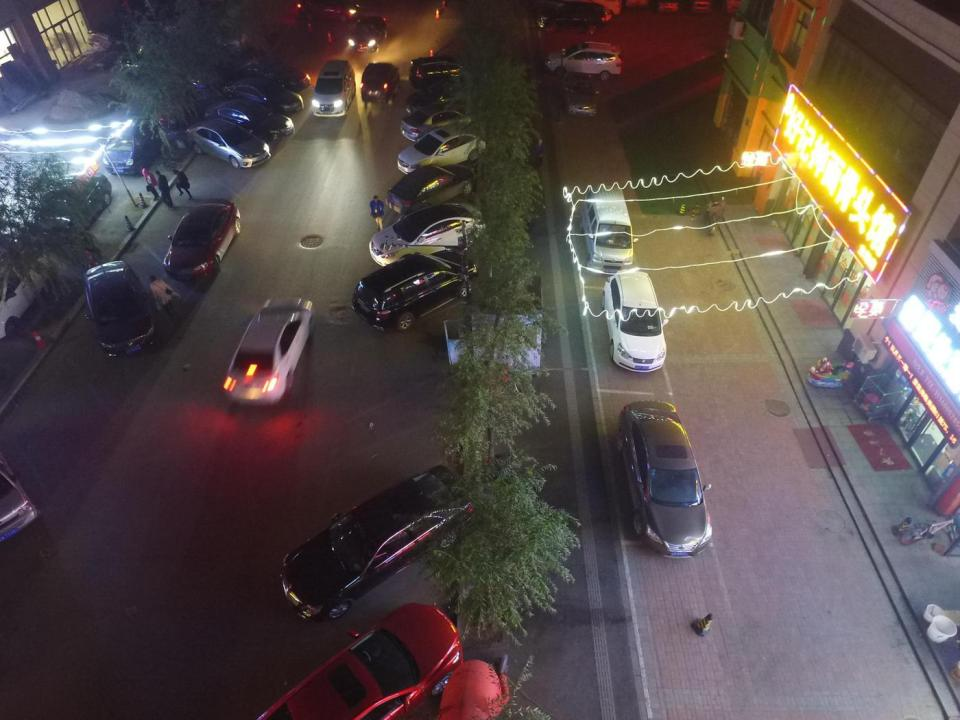car: (279, 465, 473, 621), (256, 603, 463, 720), (618, 400, 712, 559), (224, 298, 314, 404), (369, 204, 482, 266), (85, 261, 155, 357), (601, 272, 668, 371), (163, 198, 241, 280), (0, 244, 58, 338), (31, 174, 112, 239), (384, 164, 474, 215), (398, 125, 486, 173), (184, 118, 270, 166), (205, 99, 294, 140), (222, 78, 302, 117), (546, 41, 620, 82), (401, 102, 474, 142), (233, 57, 311, 94), (405, 77, 482, 113), (211, 13, 264, 56), (184, 51, 234, 92), (348, 16, 388, 53), (301, 0, 358, 21)
truck: (579, 184, 639, 274)
van: (352, 250, 478, 329), (103, 101, 166, 175), (311, 60, 356, 116), (537, 3, 606, 36), (411, 57, 480, 90), (360, 62, 400, 105), (556, 1, 620, 24)
